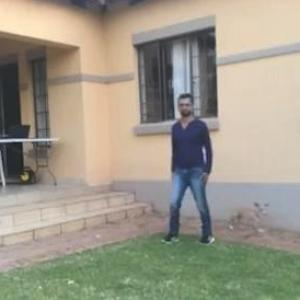follow: (170, 92, 221, 246)
